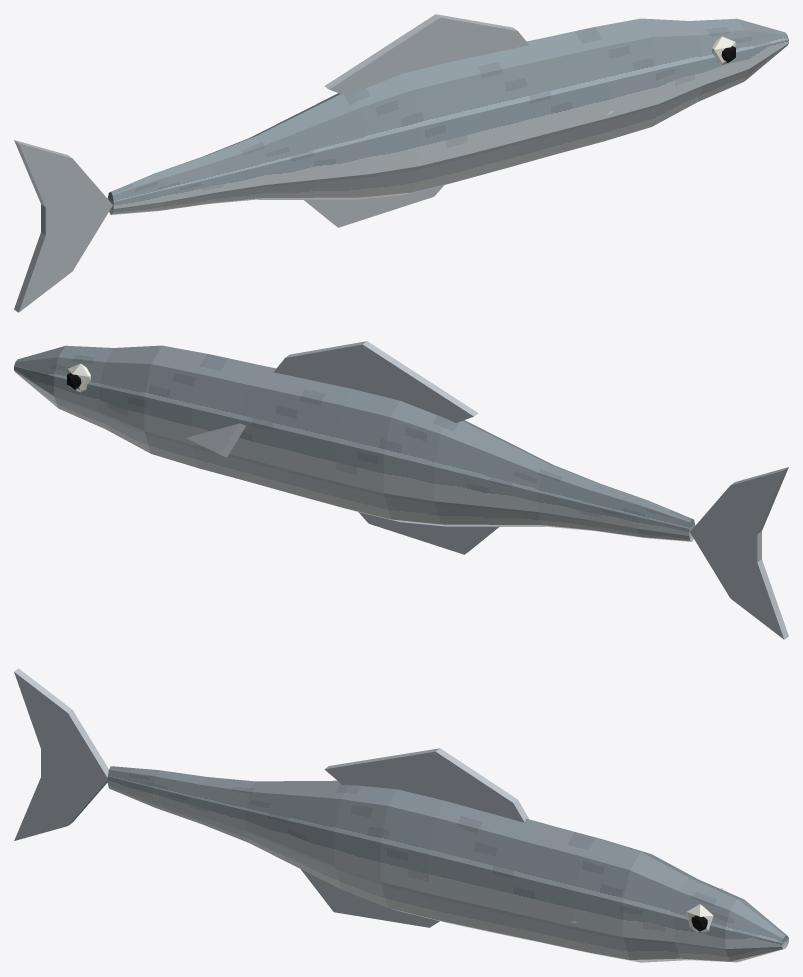
Rendered from silver_biddy.glb.
3 views of the same model, one above another, from view 1: azimuth 30°, elevation 25°; view 2: azimuth 150°, elevation 25°; view 3: azimuth 330°, elevation 25° (orthographic).
Parts seen in each view (by area): view 1: fish_silver_biddy; view 2: fish_silver_biddy; view 3: fish_silver_biddy.
Boxes of the visible parts, bbox=[...] form: fish_silver_biddy: bbox=[14, 14, 788, 312]; fish_silver_biddy: bbox=[14, 341, 788, 639]; fish_silver_biddy: bbox=[14, 668, 788, 962].
Bounding box in the file's own units: 1.14 × 0.2725 × 0.1267.
Materials: 4 (1 with a texture image).
